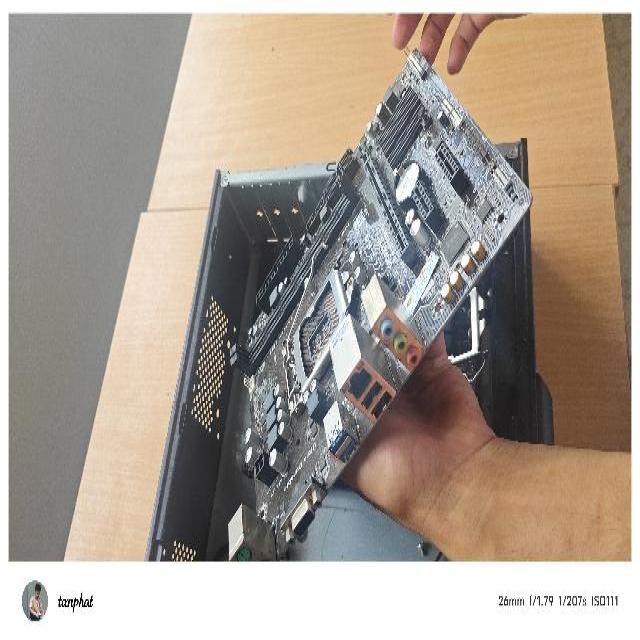Mainboard: (228, 46, 534, 556)
